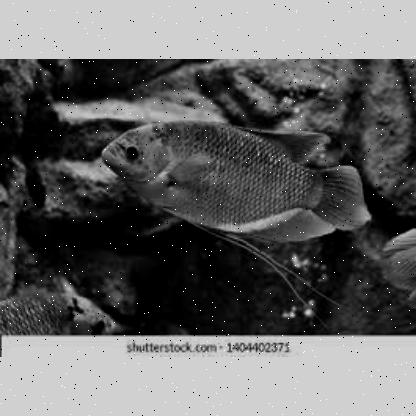gurame: (103, 120, 370, 244), (0, 284, 112, 334)
